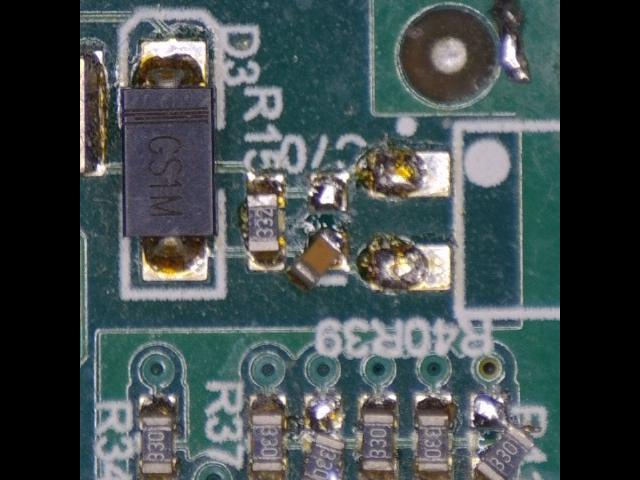Incorrect_installation: (468, 393, 537, 480), (302, 392, 348, 480), (287, 228, 349, 290)
